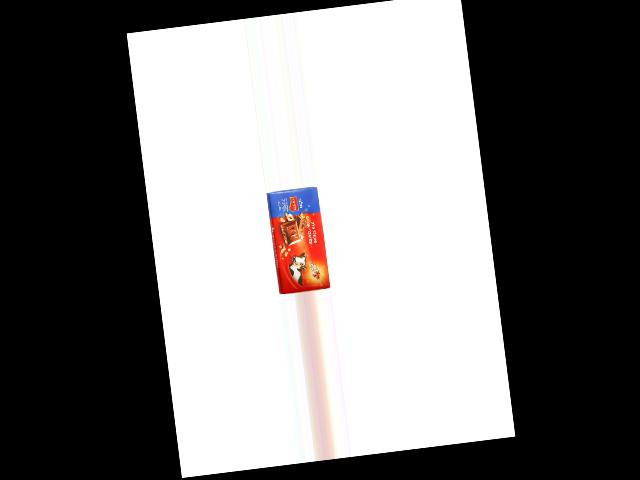chocolate: (266, 186, 329, 295)
